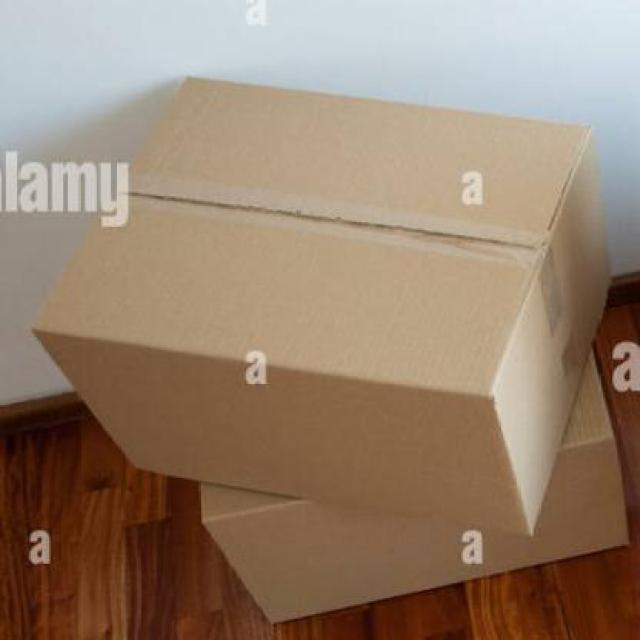box: (23, 72, 614, 542), (178, 342, 638, 640)
